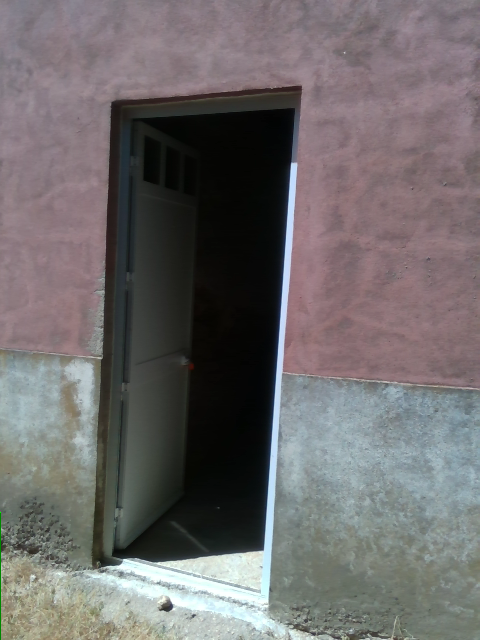open: (101, 90, 305, 594)
